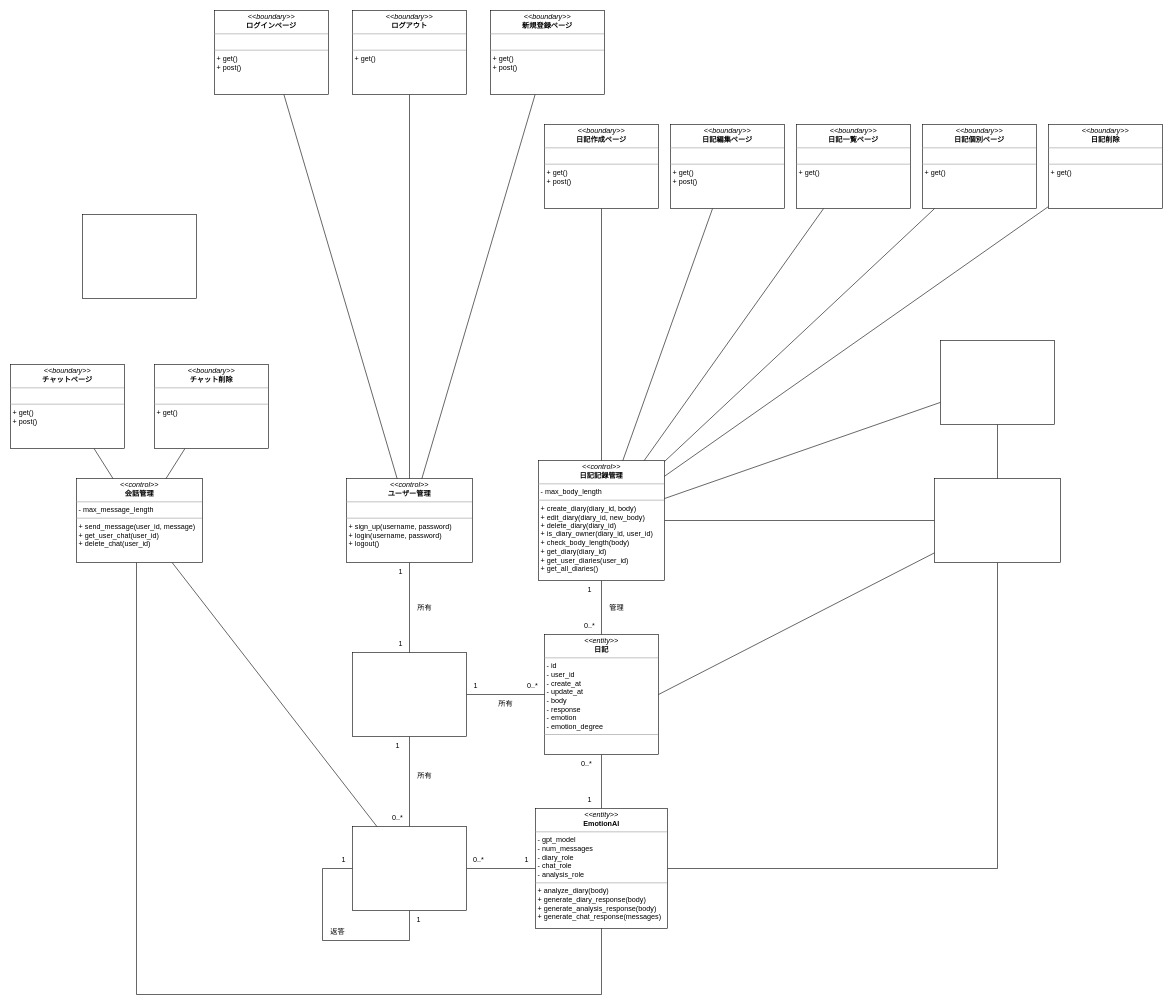
Image size: 1173x1006. Some labels were removed from this diagram. The centre of each missing label's shape, as x and y in pixels:
"<<boundary>> インデックスページ + get()" belongs at (x=139, y=256).
"<<boundary>> 分析結果ページ + get()" belongs at (x=997, y=382).
"<<control>> 分析管理 + analyze_diary(user_id) + analysis_result(user_id)" belongs at (x=997, y=520).
"<<entity>> チャット - id - user_id - role - message - time" belongs at (x=409, y=868).
"<<entity>> ユーザー - id - username - password" belongs at (x=409, y=694).
